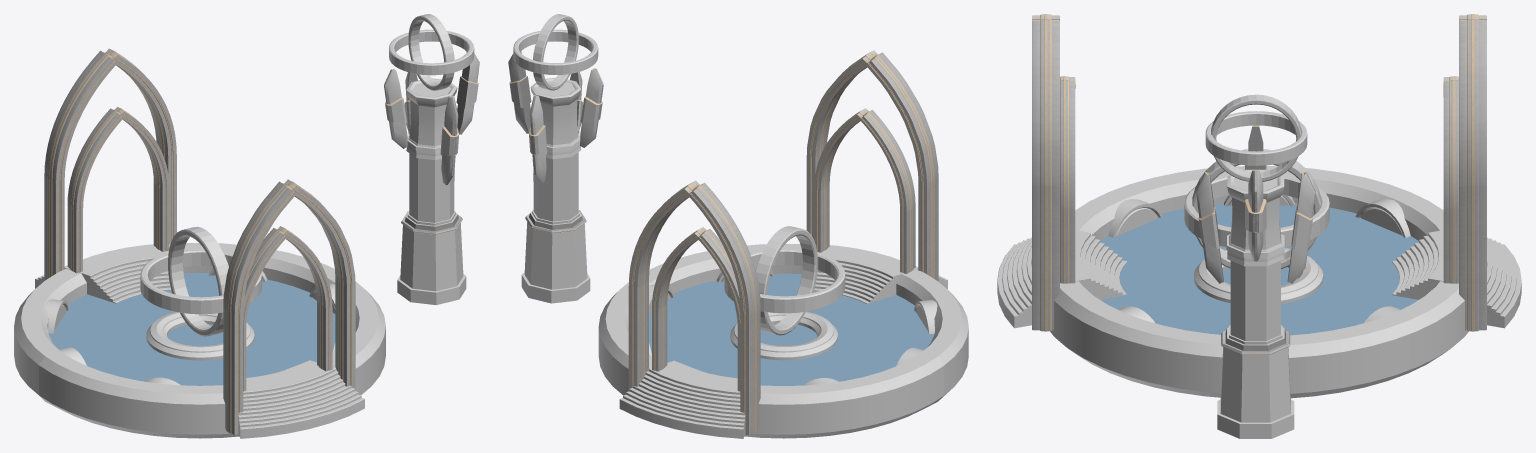
File: Elven_Mystical_Structures_1A1.fbx
3 renders of one model, left to right at view 1: azimuth 30°, elevation 25°; view 2: azimuth 150°, elevation 25°; view 3: azimuth 270°, elevation 25°, orthographic. The views are drawn at different scales.
Parts seen in each view (by area): view 1: Elven_Pond_1A1, Elven_Pond_Arches_1A1, Elven_Pond_Water_1A1, Elven_Mystical_Tower_1A1, Elven_Mystical_Tower_Details_1A1, Elven_Pond_Ring_1A1, Elven_Pond_Ring_1A2, Elven_Pond_Detail_1A1, Elven_Mystical_Tower_Ring_1A1, Elven_Mystical_Tower_Ring_1A2; view 2: Elven_Pond_1A1, Elven_Pond_Arches_1A1, Elven_Pond_Water_1A1, Elven_Mystical_Tower_1A1, Elven_Mystical_Tower_Details_1A1, Elven_Pond_Ring_1A2, Elven_Pond_Ring_1A1, Elven_Pond_Detail_1A1, Elven_Mystical_Tower_Ring_1A1, Elven_Mystical_Tower_Ring_1A2; view 3: Elven_Pond_1A1, Elven_Pond_Arches_1A1, Elven_Pond_Water_1A1, Elven_Mystical_Tower_1A1, Elven_Mystical_Tower_Details_1A1, Elven_Mystical_Tower_Ring_1A1, Elven_Pond_Ring_1A1, Elven_Pond_Detail_1A1, Elven_Mystical_Tower_Ring_1A2, Elven_Pond_Ring_1A2.
Part boxes in pixels (x1,y1,x2,y2): Elven_Pond_1A1: (14,243,385,438); Elven_Pond_Arches_1A1: (44,48,355,435); Elven_Pond_Water_1A1: (48,273,335,385); Elven_Mystical_Tower_1A1: (397,78,466,305); Elven_Mystical_Tower_Details_1A1: (384,52,479,185); Elven_Pond_Ring_1A1: (140,249,261,314); Elven_Pond_Ring_1A2: (168,226,228,336); Elven_Pond_Detail_1A1: (146,312,254,360); Elven_Mystical_Tower_Ring_1A1: (389,29,474,75); Elven_Mystical_Tower_Ring_1A2: (408,14,454,90); Elven_Pond_1A1: (598,243,968,438); Elven_Pond_Arches_1A1: (628,50,938,435); Elven_Pond_Water_1A1: (649,273,934,385); Elven_Mystical_Tower_1A1: (521,78,590,303); Elven_Mystical_Tower_Details_1A1: (508,51,603,183); Elven_Pond_Ring_1A2: (755,226,817,335); Elven_Pond_Ring_1A1: (724,248,845,313); Elven_Pond_Detail_1A1: (730,311,837,360); Elven_Mystical_Tower_Ring_1A1: (513,29,598,74); Elven_Mystical_Tower_Ring_1A2: (533,14,578,90); Elven_Pond_1A1: (997,166,1521,398); Elven_Pond_Arches_1A1: (1032,14,1486,331); Elven_Pond_Water_1A1: (1100,203,1418,335); Elven_Mystical_Tower_1A1: (1217,169,1294,438); Elven_Mystical_Tower_Details_1A1: (1196,125,1315,283); Elven_Mystical_Tower_Ring_1A1: (1205,111,1307,165); Elven_Pond_Ring_1A1: (1184,174,1329,247); Elven_Pond_Detail_1A1: (1194,247,1323,304); Elven_Mystical_Tower_Ring_1A2: (1211,94,1301,181); Elven_Pond_Ring_1A2: (1192,149,1321,269).
Bounding box in the file's own units: 3050 × 1932 × 2643.
